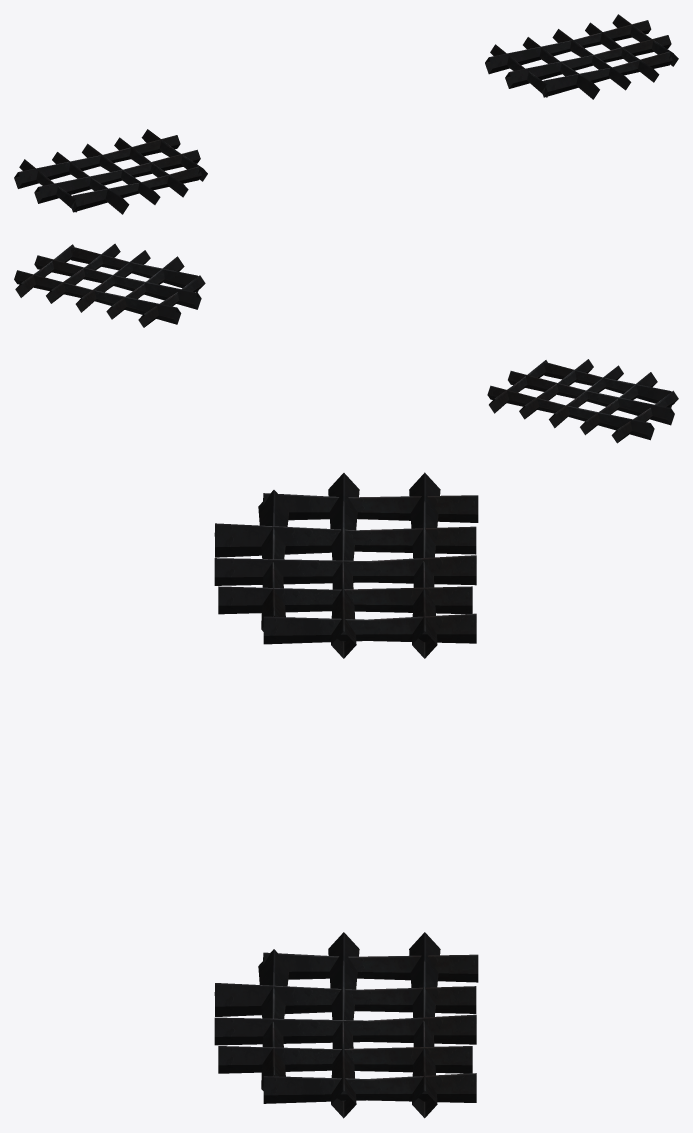
File: sewer_metal003.FBX
3 renders of one model, top to bottom at view 1: azimuth 30°, elevation 25°; view 2: azimuth 150°, elevation 25°; view 3: azimuth 270°, elevation 25°, orthographic. The views are drawn at different scales.
Visible parts, largest first — view 1: sewer_metal003; view 2: sewer_metal003; view 3: sewer_metal003.
Boxes of the visible parts, x1=… form: sewer_metal003: x1=14, y1=14, x2=678, y2=214; sewer_metal003: x1=14, y1=243, x2=678, y2=443; sewer_metal003: x1=214, y1=472, x2=478, y2=1118.
Size of the model in its own units: 1789 by 46.53 by 324.
